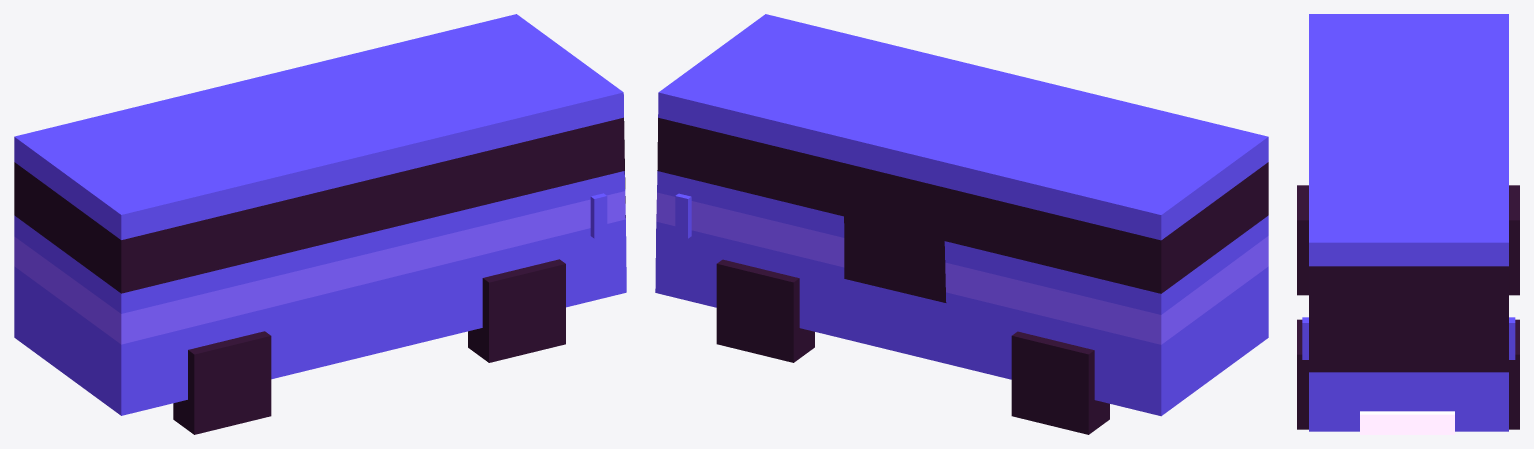
Rendered from Bus_Spion_Plat.fbx.
3 views of the same model, side by side, from view 1: azimuth 30°, elevation 25°; view 2: azimuth 150°, elevation 25°; view 3: azimuth 270°, elevation 25° (orthographic). The views are drawn at different scales.
Parts seen in each view (by area): view 1: Bus_Spion_Plat; view 2: Bus_Spion_Plat; view 3: Bus_Spion_Plat.
Part boxes in pixels (x1,y1,x2,y2): Bus_Spion_Plat: (14, 14, 626, 434); Bus_Spion_Plat: (655, 14, 1268, 434); Bus_Spion_Plat: (1297, 14, 1519, 434).
Bounding box in the file's own units: 1133 × 489 × 457.
